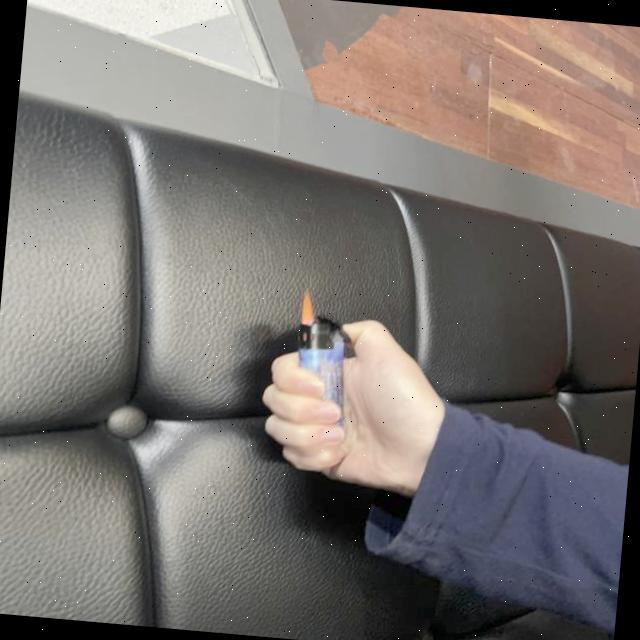fire: (299, 290, 318, 326)
